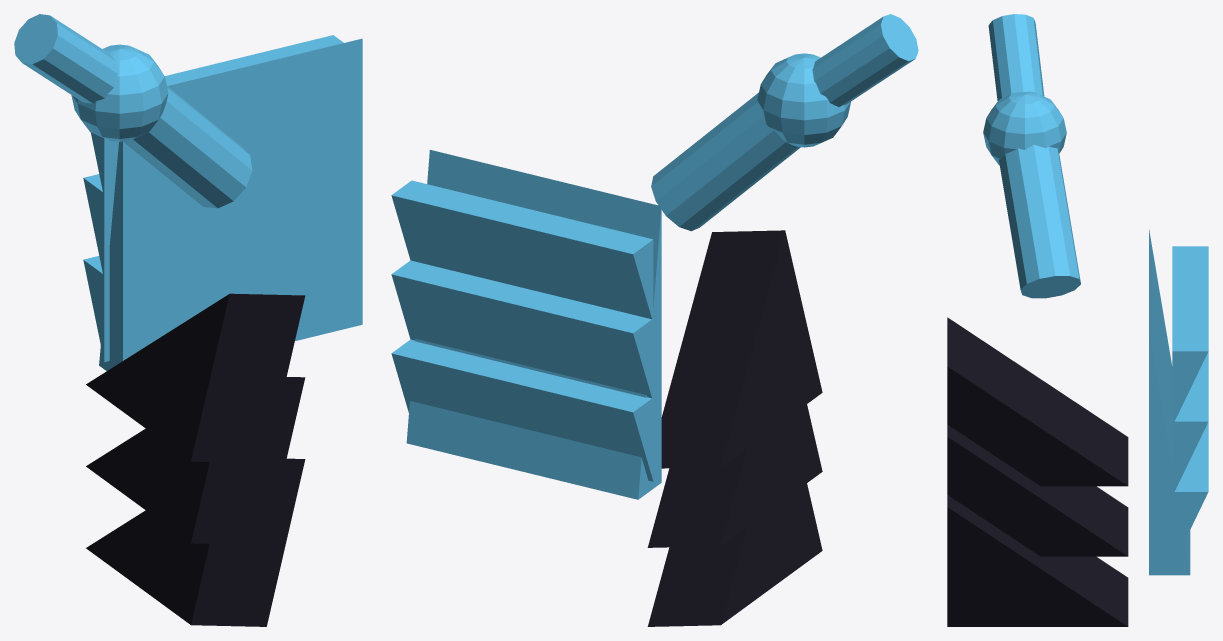
The model's file is WaterArmorLeftUpperArm.obj.
3 views of the same model, side by side, from view 1: azimuth 30°, elevation 25°; view 2: azimuth 150°, elevation 25°; view 3: azimuth 270°, elevation 25° (orthographic). The views are drawn at different scales.
Parts seen in each view (by area): view 1: WaterArmorLeftUpperArm; view 2: WaterArmorLeftUpperArm; view 3: WaterArmorLeftUpperArm.
Part boxes in pixels (x1,y1,x2,y2): WaterArmorLeftUpperArm: [14, 14, 362, 626]; WaterArmorLeftUpperArm: [391, 14, 918, 626]; WaterArmorLeftUpperArm: [947, 14, 1208, 626].
Bounding box in the file's own units: 1.64 × 2.3 × 1.01.
